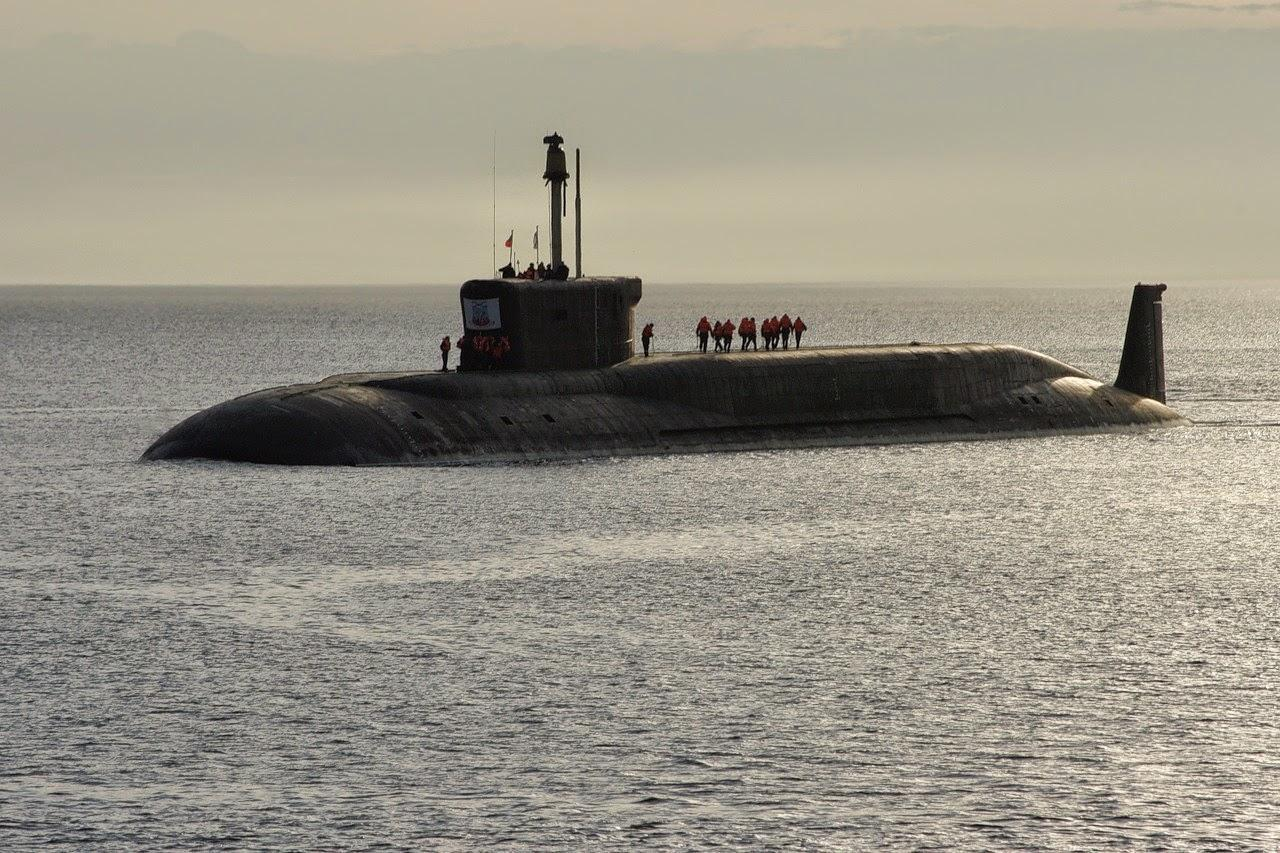Submarine: (40, 100, 1262, 586)
